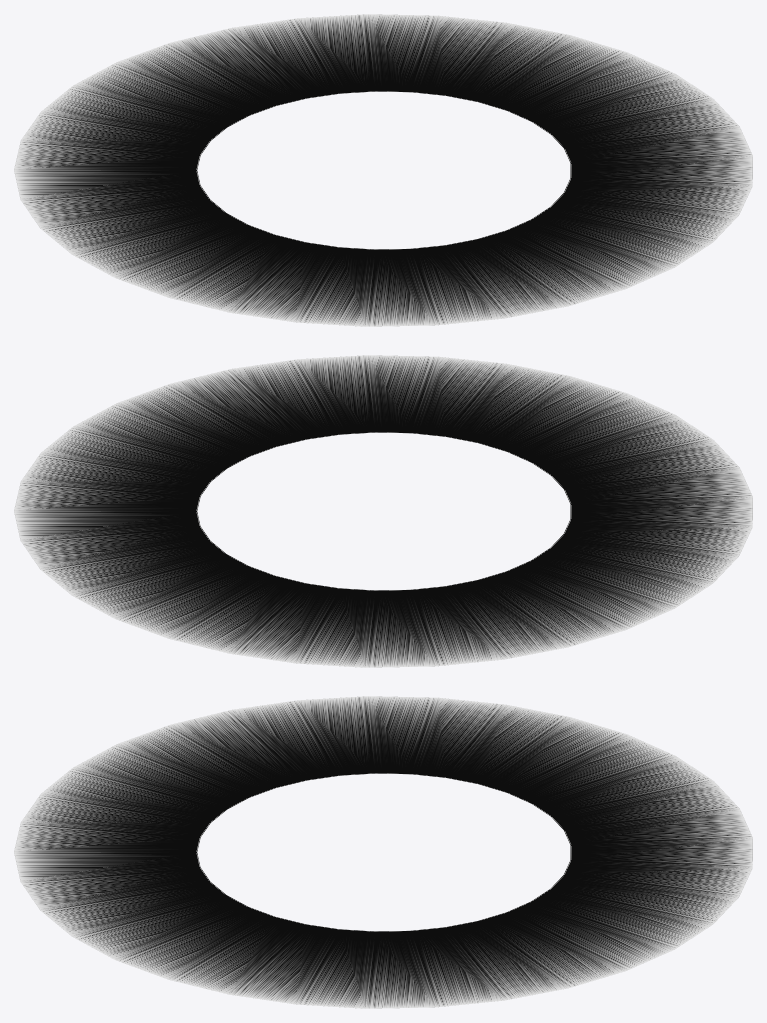
The model's file is Ring.gltf.
3 views of the same model, one above another, from view 1: azimuth 30°, elevation 25°; view 2: azimuth 150°, elevation 25°; view 3: azimuth 270°, elevation 25° (orthographic).
Parts seen in each view (by area): view 1: 円; view 2: 円; view 3: 円.
Part boxes in pixels (x1=…): 円: x1=14, y1=14, x2=752, y2=326; 円: x1=14, y1=355, x2=752, y2=667; 円: x1=14, y1=696, x2=752, y2=1008.
Size of the model in its own units: 2 by 0 by 2.
1 material, 1 textured.
